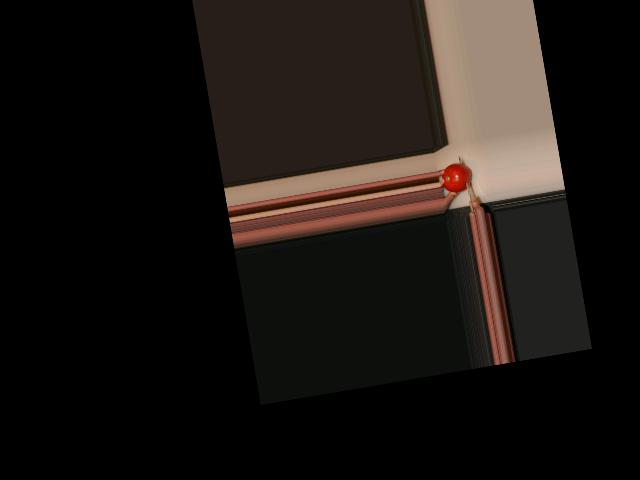tomato: (440, 160, 473, 194)
